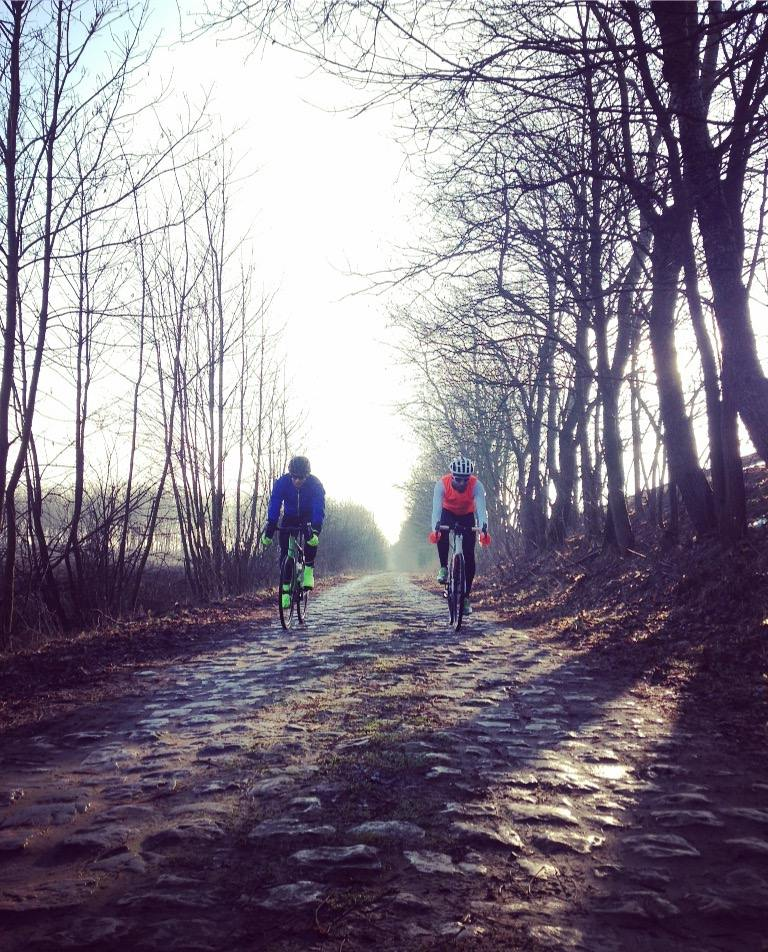bicycle: (427, 512, 493, 643), (259, 518, 333, 632)
